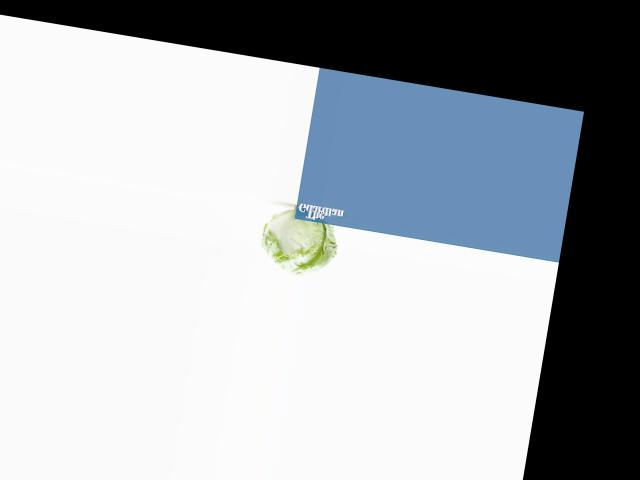lettuce: (257, 205, 340, 283)
